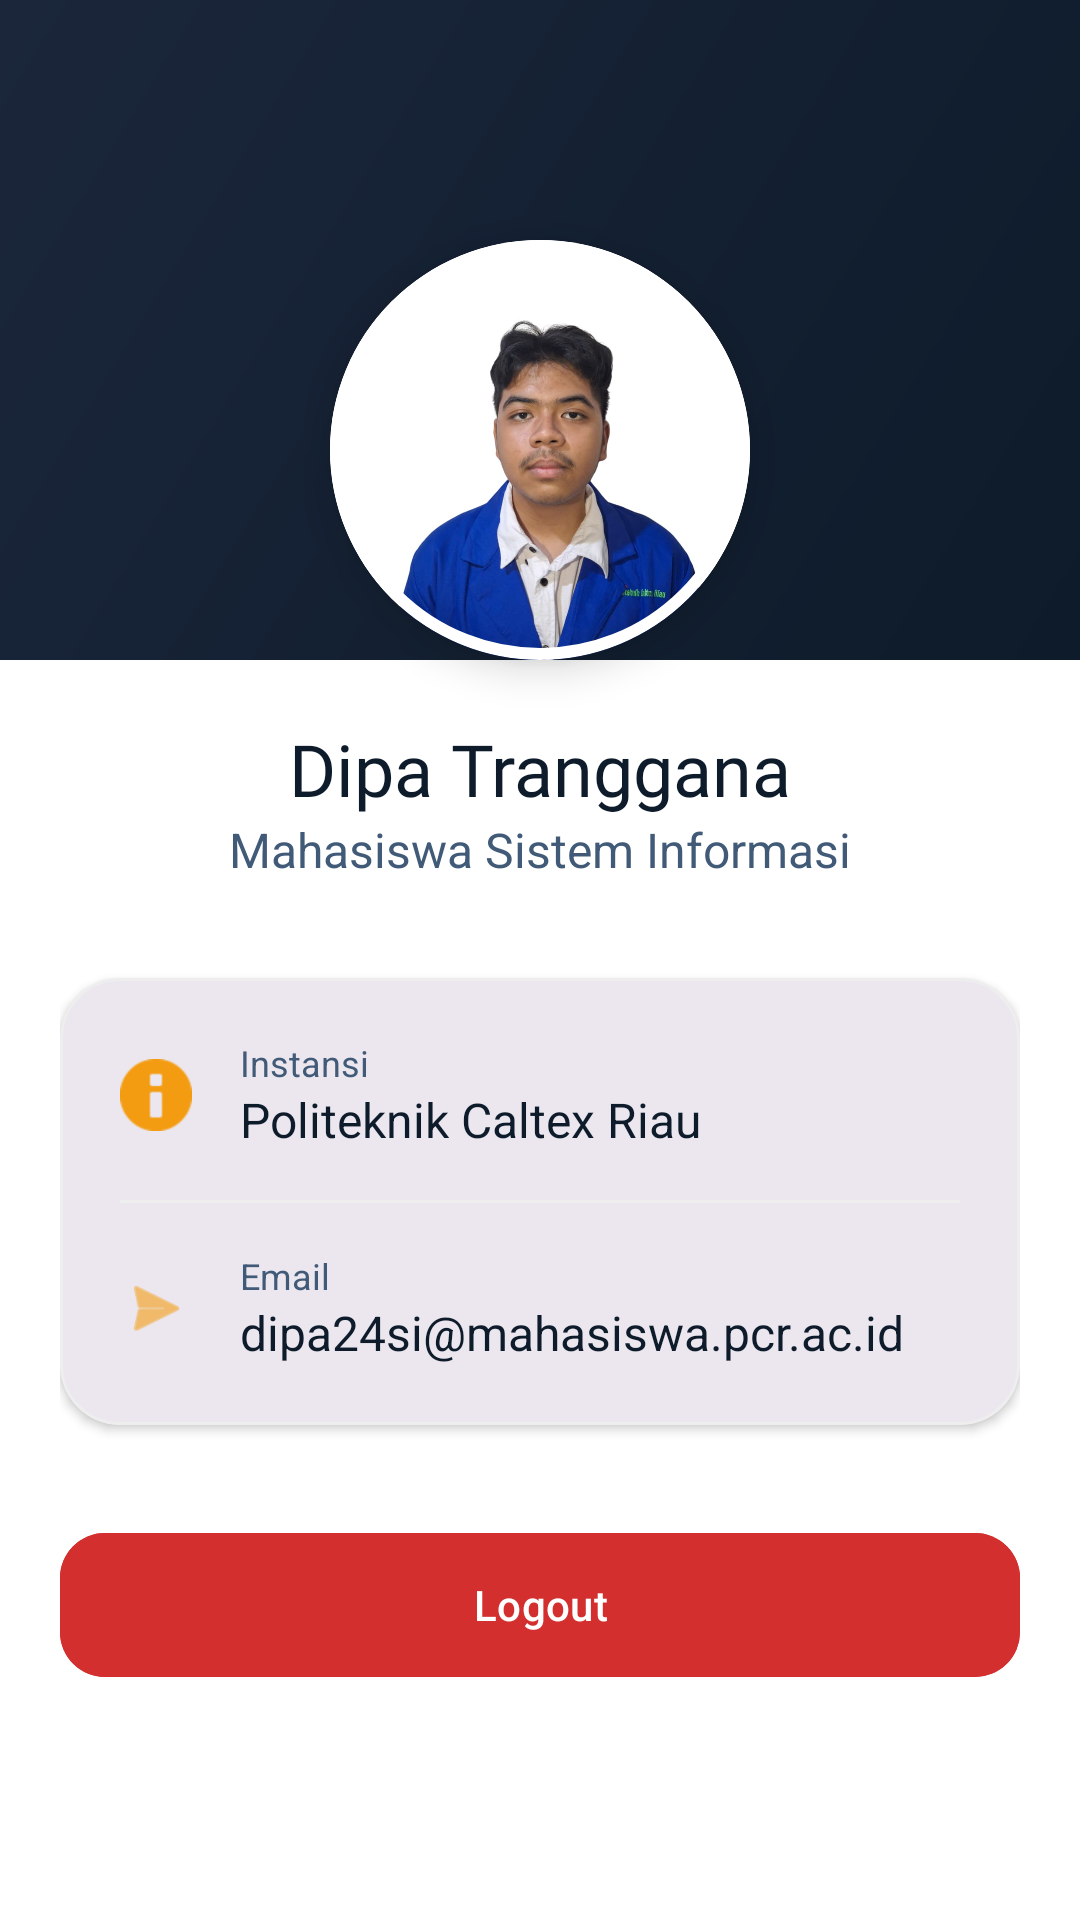

Where to tap for icons on this 1080 x 1920 app screen, as (x,y):
info: (156,1095)
send: (157,1308)
